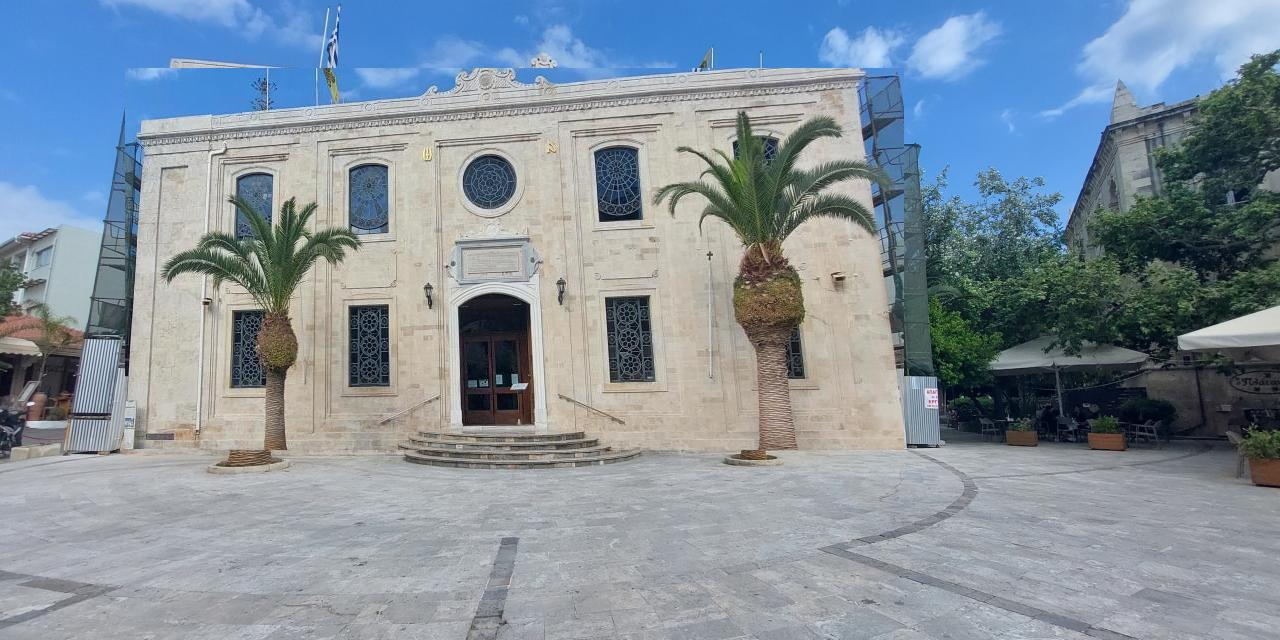Agios Titos: (126, 69, 905, 451)
